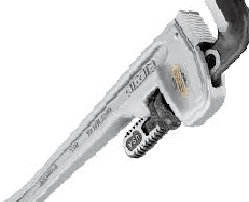Wrench: (5, 3, 249, 202)
